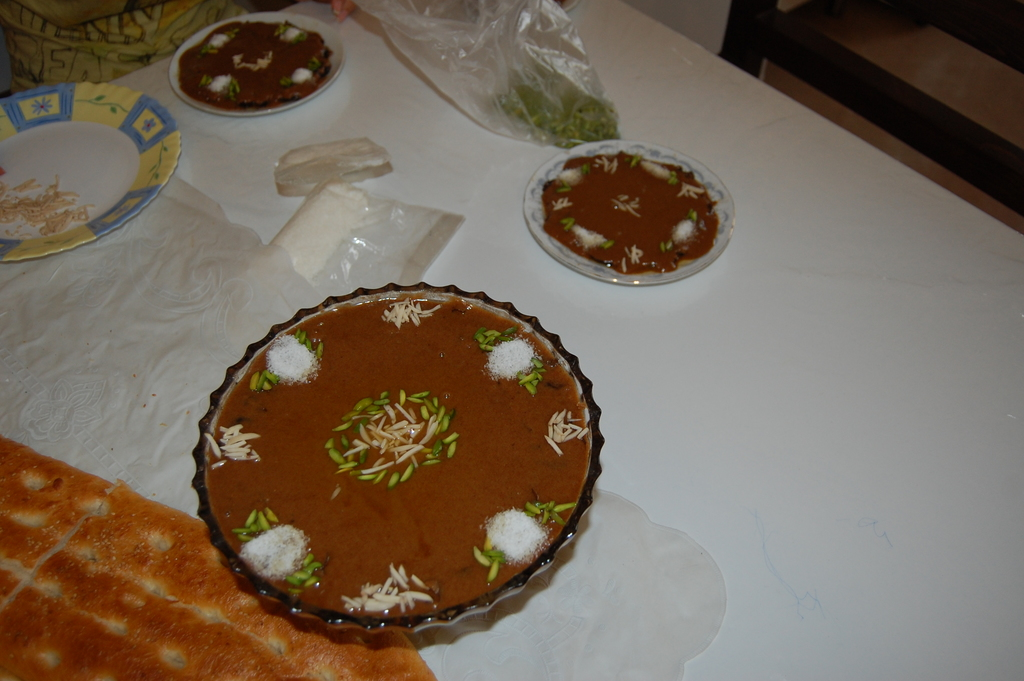plate: (0, 104, 148, 246)
